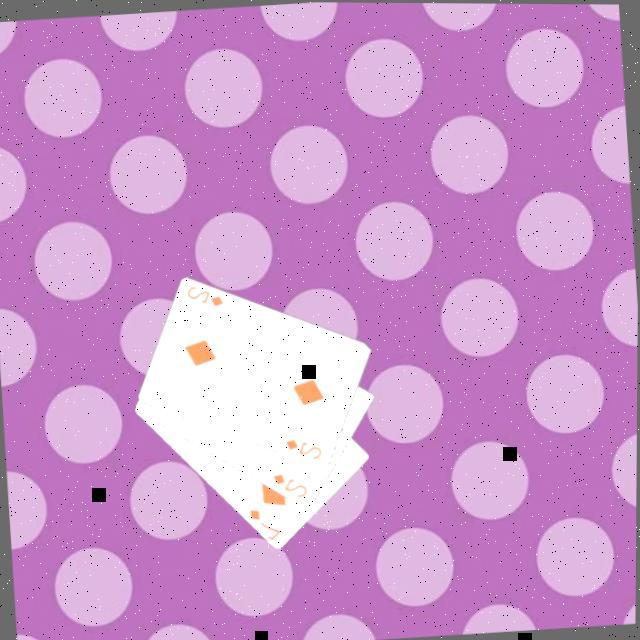2D: (271, 466, 313, 501), (185, 279, 229, 310), (284, 432, 327, 462)
7D: (248, 502, 286, 542)
